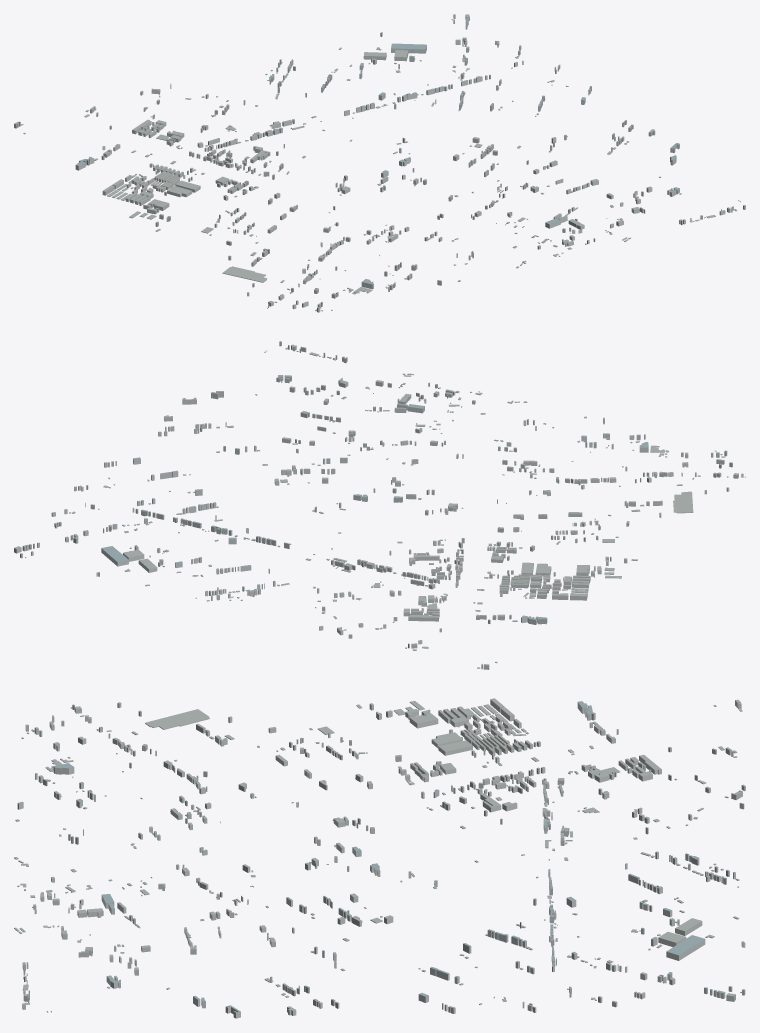
Rendered from far.glb.
3 views of the same model, one above another, from view 1: azimuth 30°, elevation 25°; view 2: azimuth 150°, elevation 25°; view 3: azimuth 270°, elevation 25° (orthographic). The views are drawn at different scales.
Size of the model in its own units: 2163 by 22.7 by 2109.
